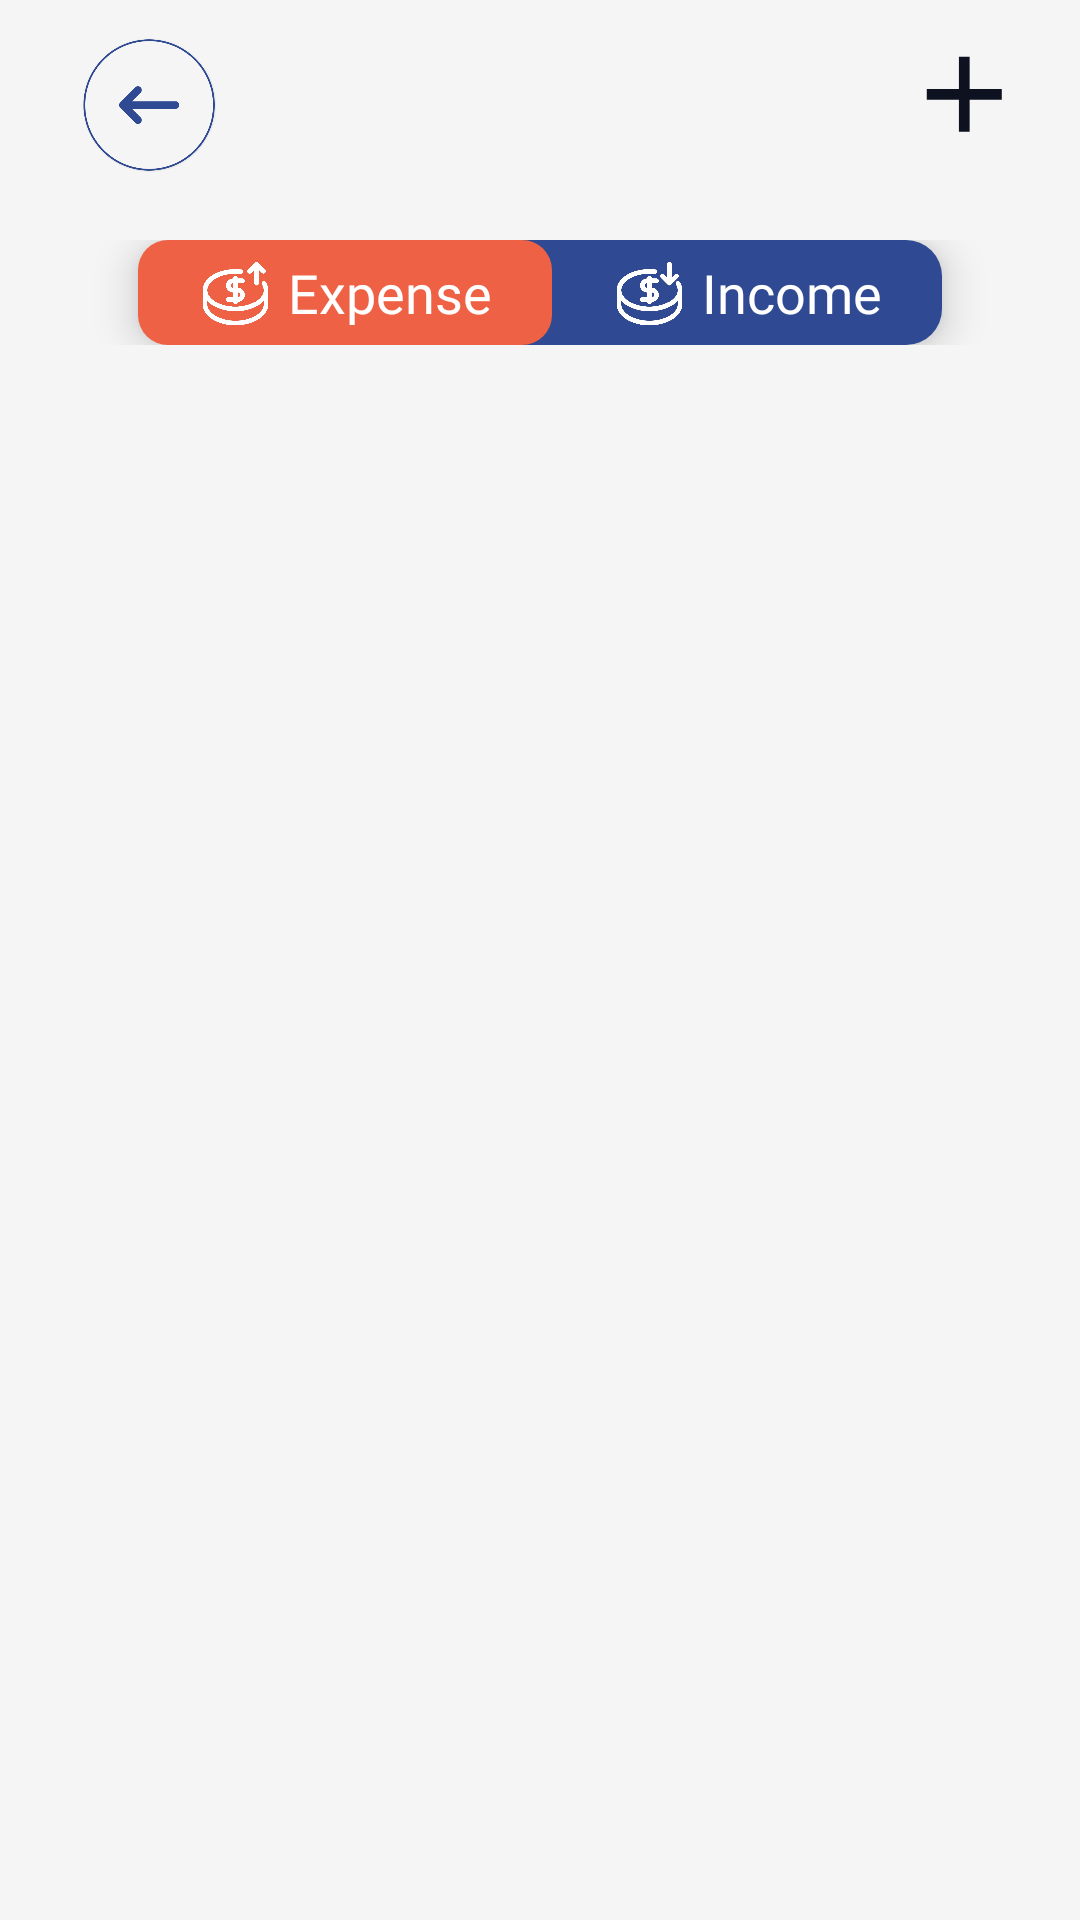

Screen size 1080 x 1920. Icon name, then its box in pixels as (x1, y1, x2, y2):
add fab: (926, 56, 1002, 132)
back: (83, 39, 215, 171)
